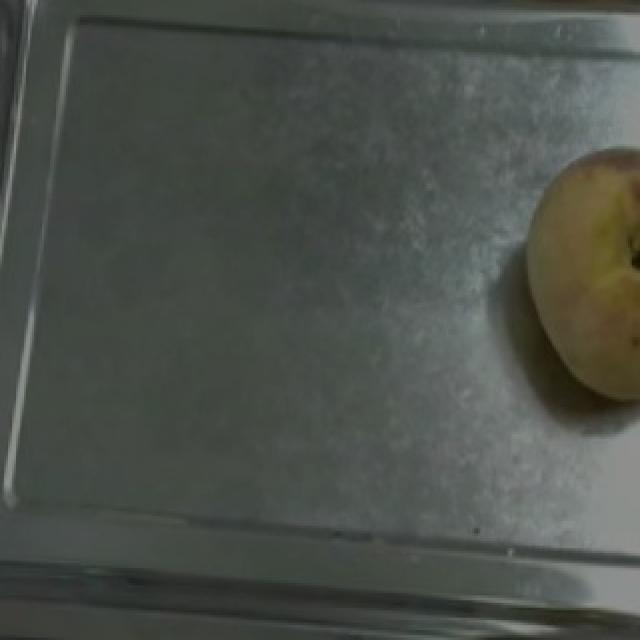Fruit: (514, 139, 640, 412)
